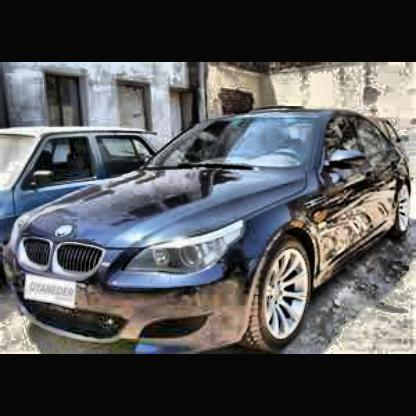BMW M5 Sedan 2010: (9, 109, 413, 353)
